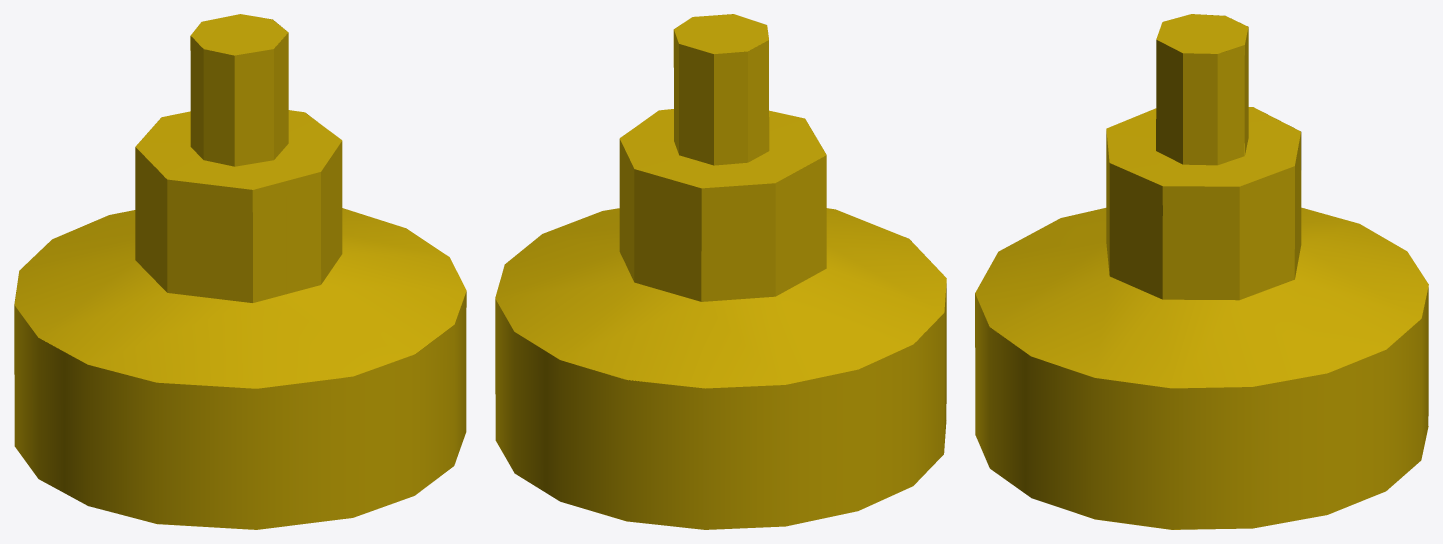
The model's file is original-6.obj.
3 views of the same model, side by side, from view 1: azimuth 30°, elevation 25°; view 2: azimuth 150°, elevation 25°; view 3: azimuth 270°, elevation 25° (orthographic).
Visible parts, largest first — view 1: #ID15; view 2: #ID15; view 3: #ID15.
Boxes of the visible parts, x1,y1,x2,y2 form: #ID15: (14,14,466,529); #ID15: (495,14,946,529); #ID15: (975,14,1428,529).
Bounding box in the file's own units: 0.397 × 0.3882 × 0.3984.
